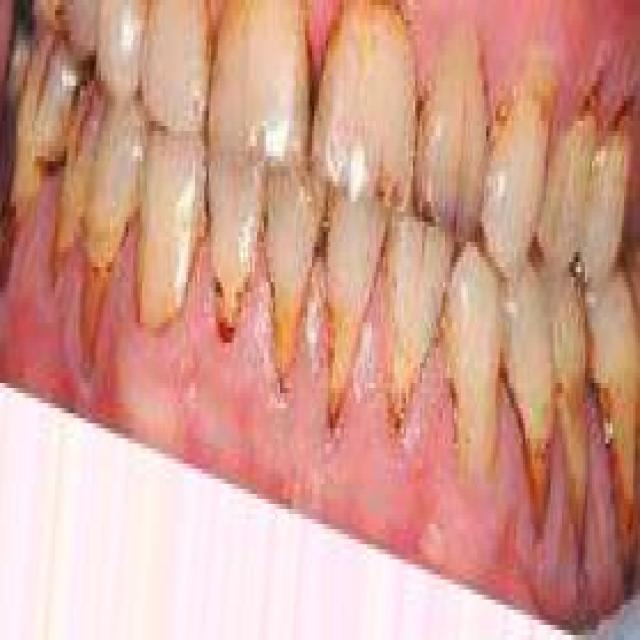caries: (74, 225, 122, 372), (212, 264, 256, 365), (31, 109, 67, 199)
